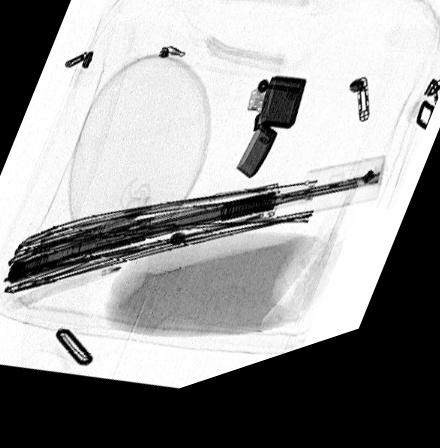Lighter: (236, 91, 308, 194)
